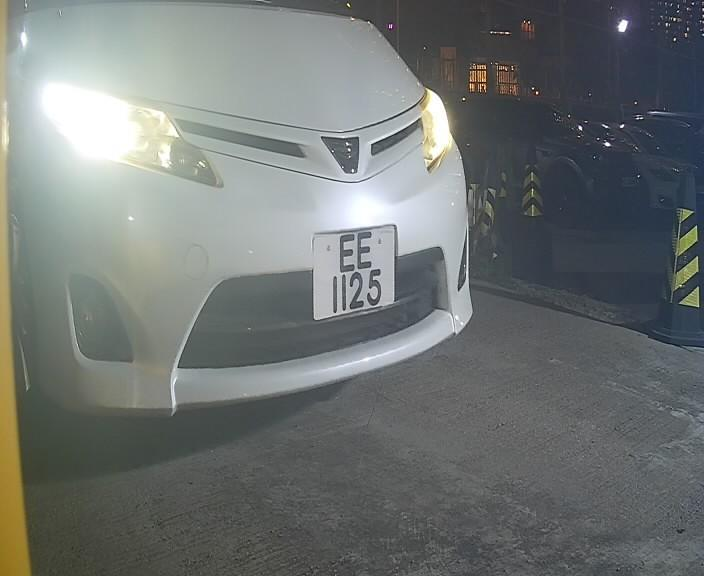License Plate: (305, 211, 403, 332)
